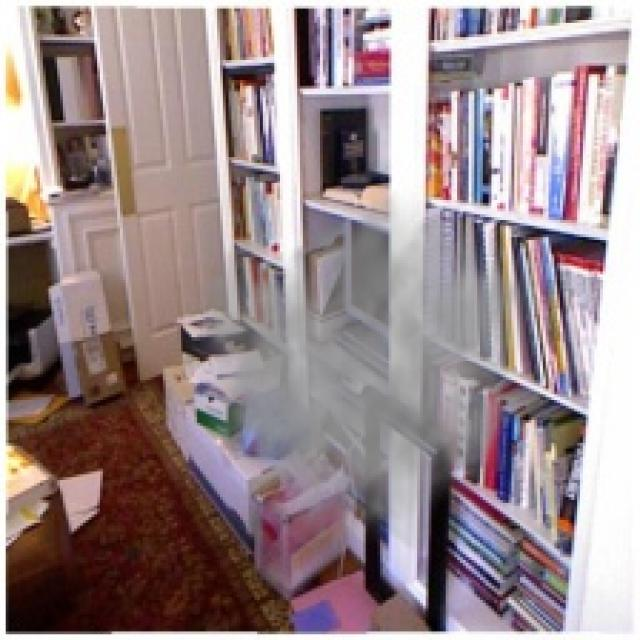smoke: (169, 186, 534, 554)
